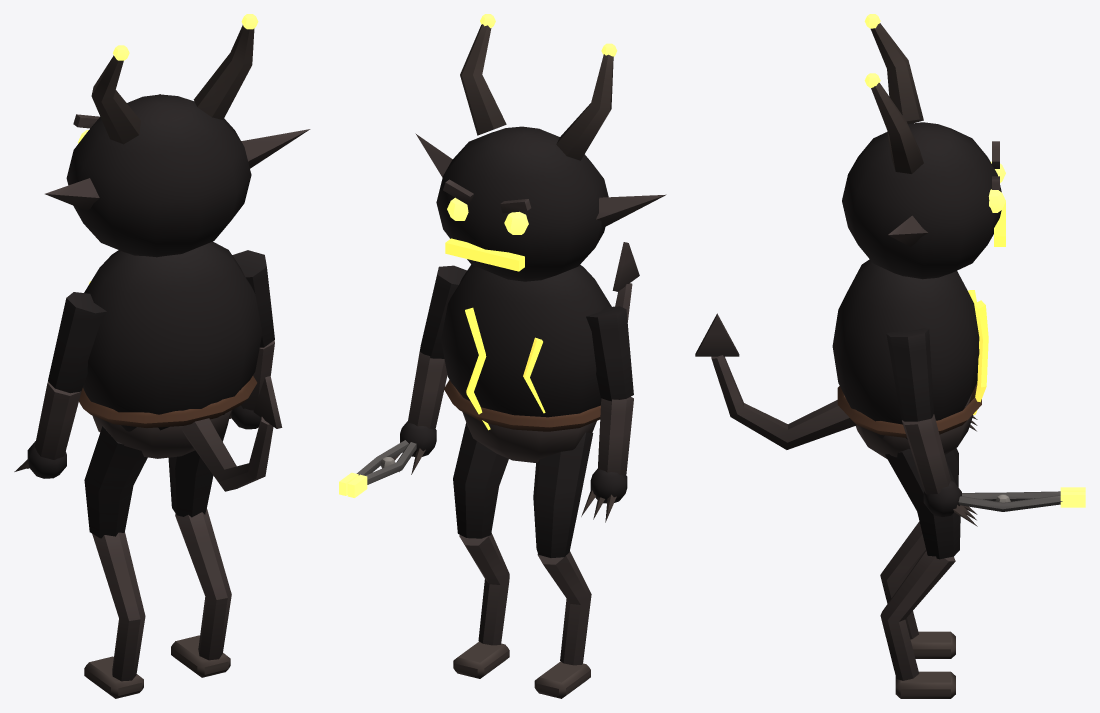
File: mob_cinder_imp.fbx
3 views of the same model, side by side, from view 1: azimuth 30°, elevation 25°; view 2: azimuth 150°, elevation 25°; view 3: azimuth 270°, elevation 25° (orthographic). The views are drawn at different scales.
Visible parts, largest first — view 1: Body, Head, KneeR, KneeL, LegL, ArmL, ForearmL, LegR, ArmR, ForearmR, Head_Glow_Molten; view 2: Body, Head, LegL, KneeL, KneeR, ForearmR, LegR, ForearmL, ArmL, ArmR, Body_Glow_Ember, Head_Glow_Ember (+2 smaller); view 3: Body, Head, ForearmR, KneeR, ArmR, KneeL, LegR, Body_Glow_Ember, Head_Glow_Molten.
Part boxes in pixels (x1,y1,x2,y2): Body: [79, 241, 282, 491]; Head: [45, 25, 310, 257]; KneeR: [171, 508, 231, 677]; KneeL: [84, 532, 145, 698]; LegL: [84, 426, 147, 538]; ArmL: [48, 292, 106, 393]; ForearmL: [14, 382, 81, 478]; LegR: [168, 420, 228, 517]; ArmR: [232, 250, 274, 347]; ForearmR: [229, 340, 274, 429]; Head_Glow_Molten: [78, 14, 258, 143]; Body: [441, 242, 639, 462]; Head: [415, 24, 666, 281]; LegL: [533, 432, 593, 557]; KneeL: [534, 551, 591, 698]; KneeR: [453, 532, 509, 678]; ForearmR: [356, 351, 447, 484]; LegR: [453, 423, 508, 538]; ForearmL: [581, 396, 633, 522]; ArmL: [586, 306, 633, 401]; ArmR: [420, 265, 466, 358]; Body_Glow_Ember: [465, 307, 545, 430]; Head_Glow_Ember: [445, 238, 524, 271]; Body: [695, 259, 981, 458]; Head: [842, 23, 1001, 279]; ForearmR: [902, 414, 1062, 526]; KneeR: [880, 550, 955, 698]; ArmR: [886, 328, 934, 421]; KneeL: [880, 521, 955, 658]; LegR: [885, 449, 960, 559]; Body_Glow_Ember: [968, 290, 988, 415]; Head_Glow_Molten: [864, 14, 1005, 212].
Bounding box in the file's own units: 168 × 402 × 226.
3 materials, 1 textured.
